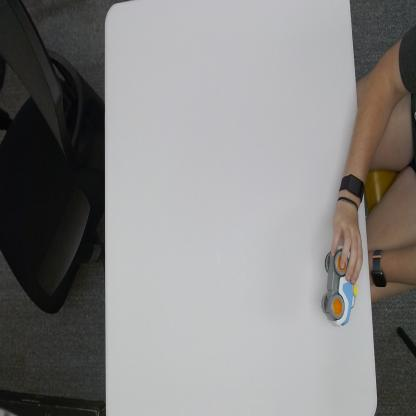Car: (321, 243, 357, 328)
Hand: (330, 199, 363, 285)
